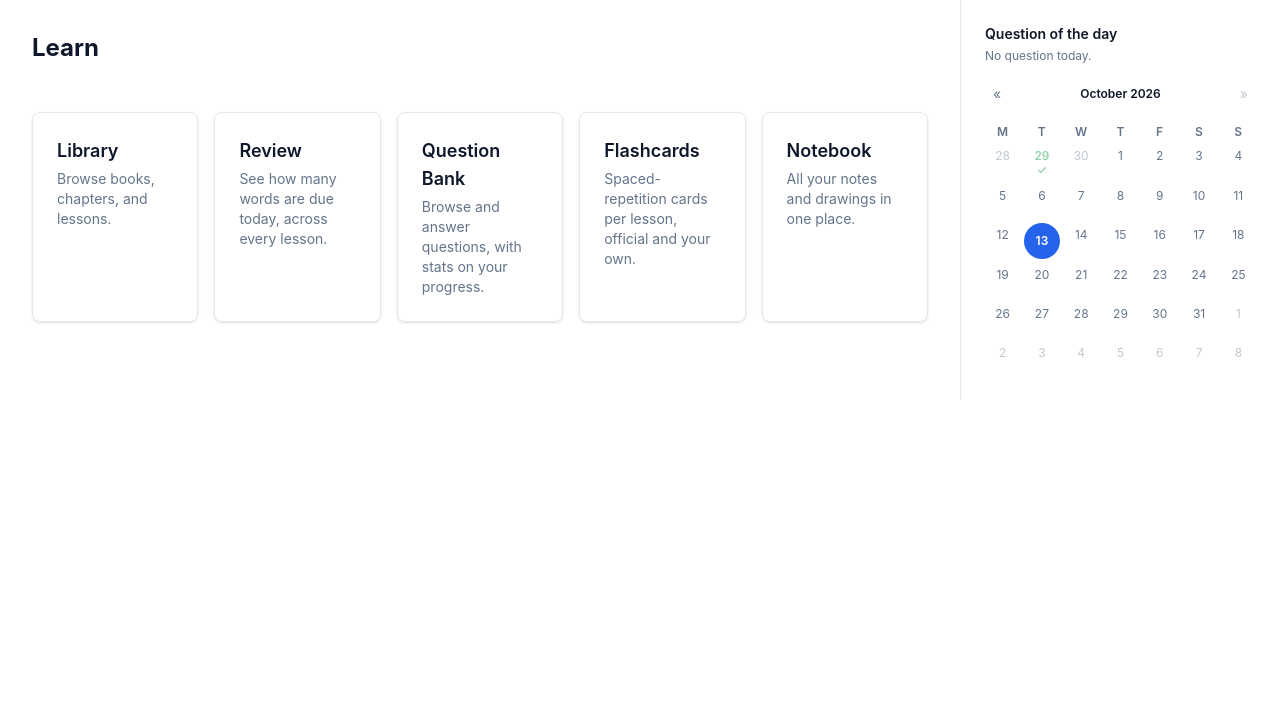
it: LearnPage question of the day › a padding day from a neighbouring month is openable like any other
Step 1. Click the button named "Tuesday, September 29, 2026: Answered correctly" → (1042, 162), box [1024,144,1060,180]
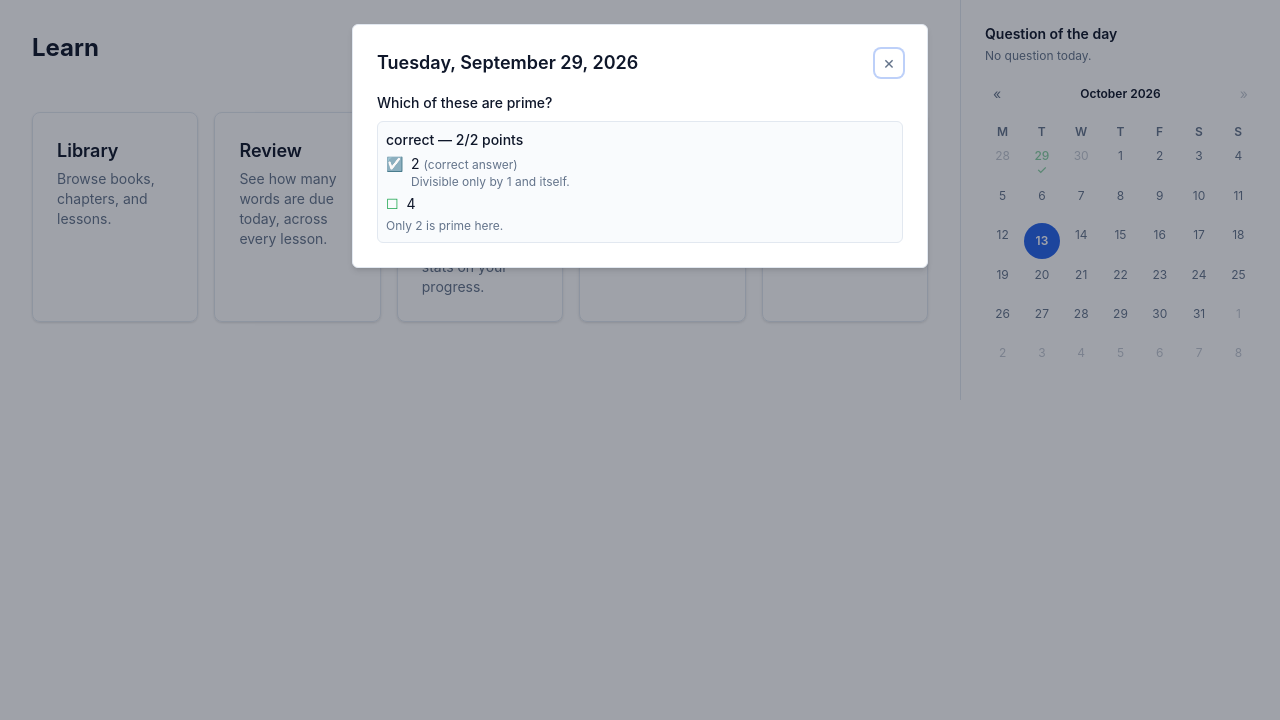
expect the dialog is shown: met, box [352,24,928,268]
expect the text "correct — 2/2 points" is shown: met, box [386,131,523,148]
